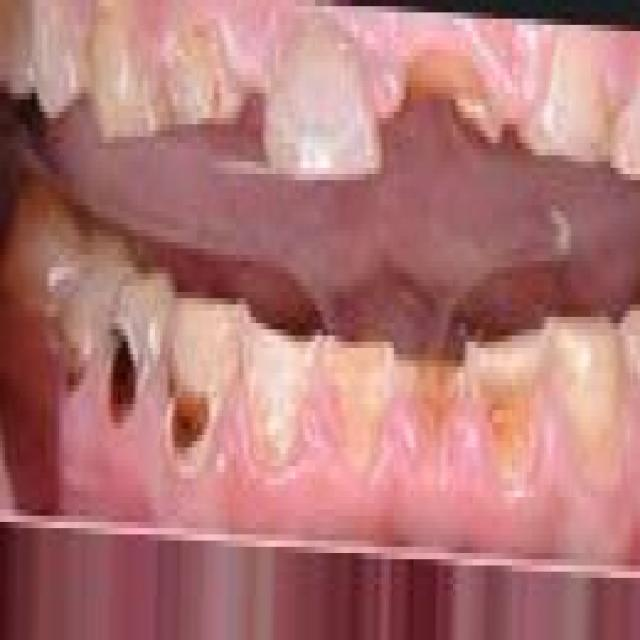caries: (467, 303, 548, 490), (164, 292, 232, 492), (400, 16, 497, 146), (158, 11, 243, 150), (320, 314, 394, 463), (402, 331, 467, 470), (97, 275, 154, 432)
